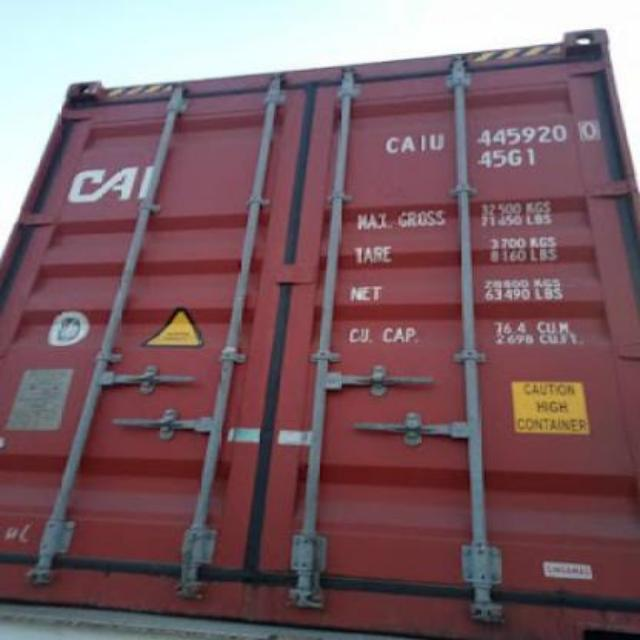0: (578, 118, 602, 142), (552, 125, 568, 144)
2: (536, 126, 552, 144)
4: (476, 128, 492, 148), (493, 128, 507, 148)
5: (506, 128, 520, 146)
9: (520, 126, 536, 144)
A: (400, 135, 416, 155)
C: (384, 135, 400, 155)
I: (419, 134, 428, 156)
U: (428, 132, 446, 152)
